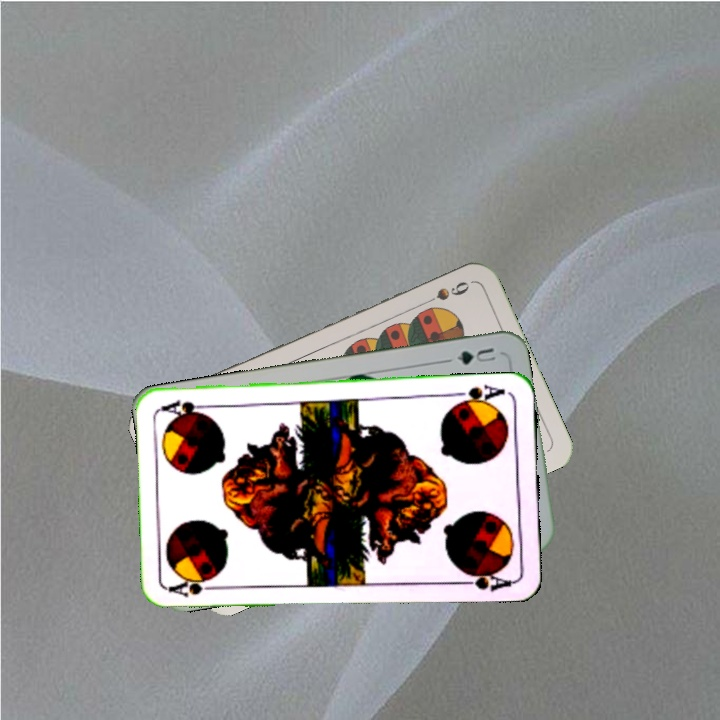GU: (452, 343, 499, 368)
S9: (417, 277, 472, 309)
SA: (450, 380, 507, 408), (166, 574, 225, 600)
